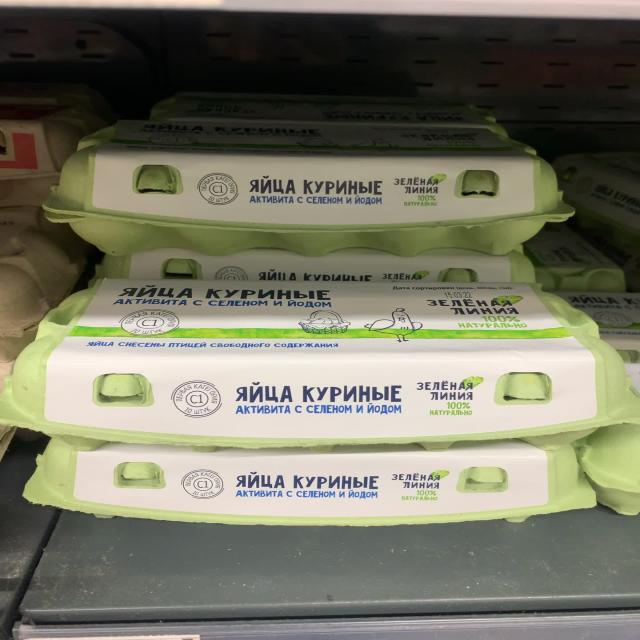egg box: (5, 288, 625, 445), (51, 120, 566, 255), (14, 440, 592, 525), (80, 244, 551, 295)
